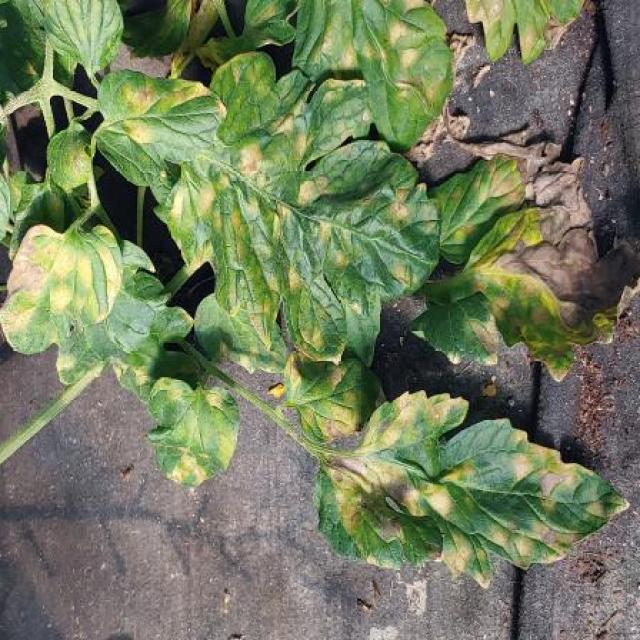Leaf Mold: (164, 52, 444, 367), (314, 390, 630, 591), (407, 204, 640, 384), (292, 0, 454, 153), (1, 214, 124, 352), (426, 152, 527, 264), (149, 370, 240, 489), (283, 346, 388, 446), (96, 68, 226, 148), (194, 292, 289, 374)
